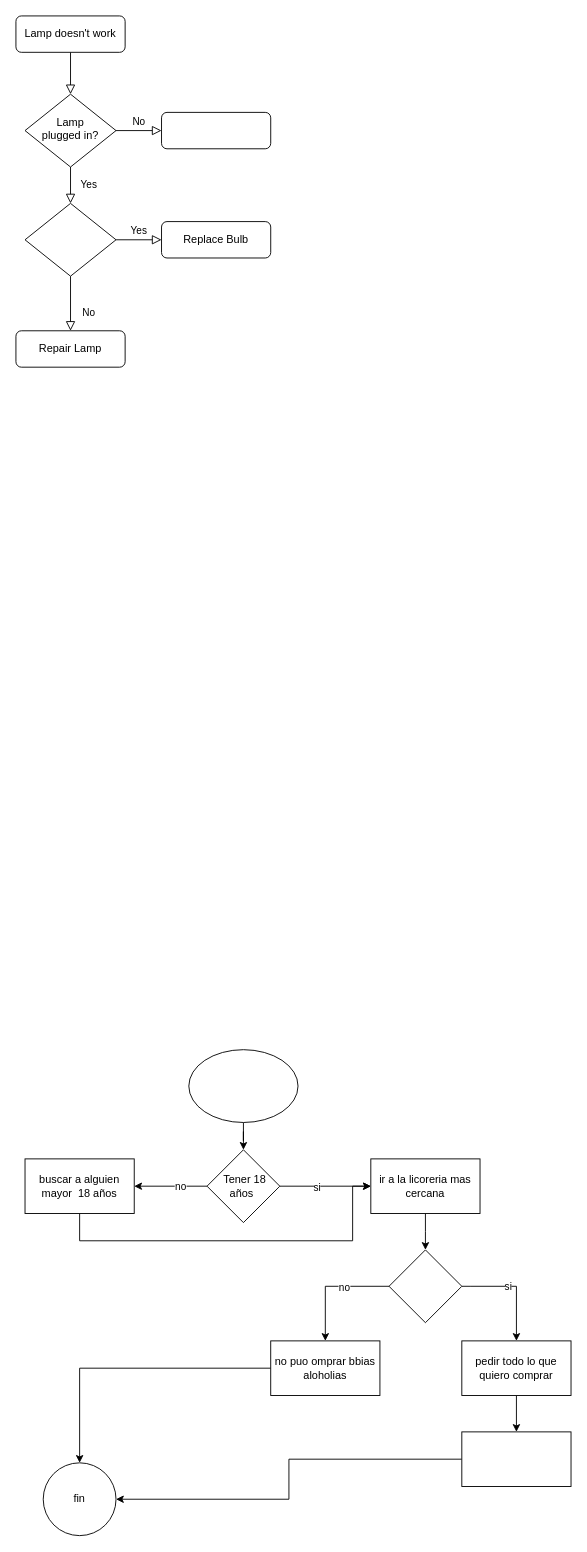
The diagram is 587 pixels wide and 1552 high, and some of its shapes have lost their labels. The centre of each missing label's shape, as x and y in pixels:
Bulb burned out?: (70,239)
INICIO Comprar bebidas alcohólicas: (243,1085)
pagar y retirarme con la bebidia: (516,1458)
Plug in lamp: (216,130)
Tengo dinero en efectivo: (425,1286)
